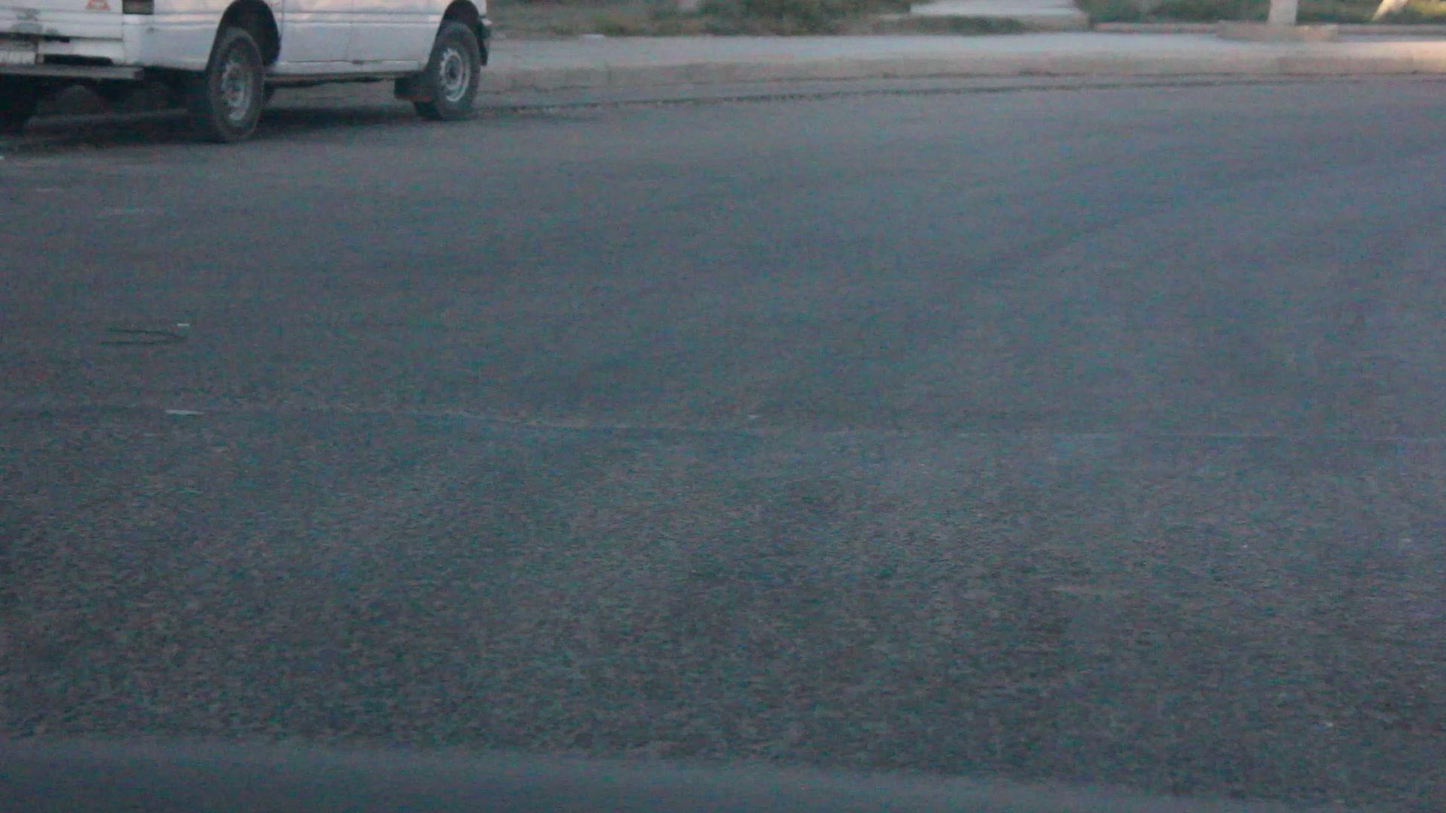Bump: (0, 401, 1446, 783)
